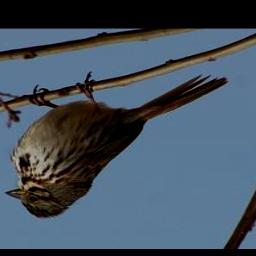Sparrow: (4, 72, 231, 220)
